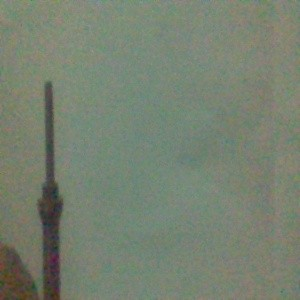obeng: (36, 81, 65, 300)
